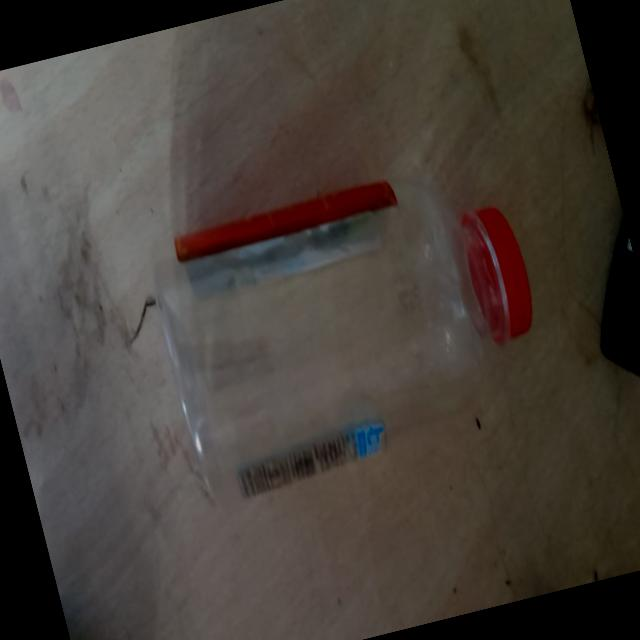Plastic - Recyclable: (138, 148, 566, 516)
